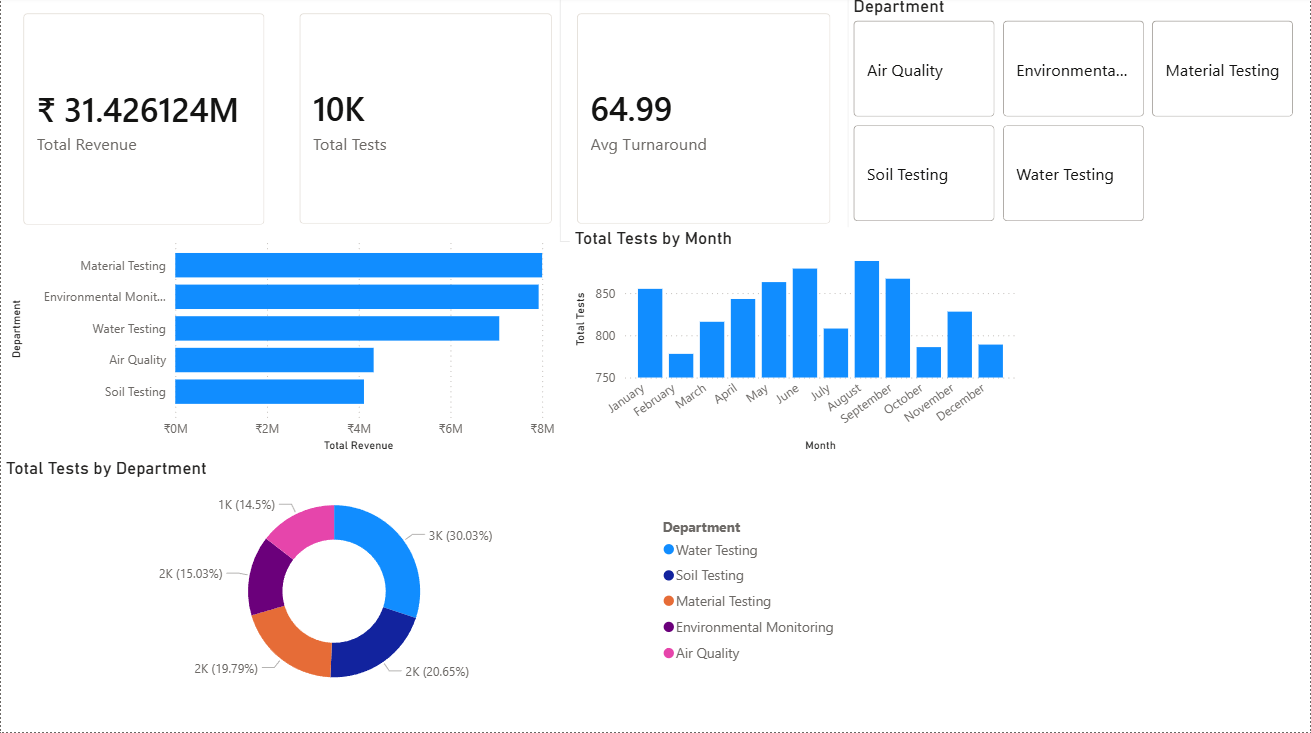

This screenshot's page, from the dashboard's own definition file:
{"tool":"powerbi","page":{"name":"Executive Overview","canvas":[1280,720],"ordinal":0},"visuals":[{"type":"cardVisual","fields":{"Data":["laboratory_operations.Total Revenue"]},"box":[4.7,0,270,241.3],"z":0},{"type":"cardVisual","fields":{"Data":["laboratory_operations.Total Tests"]},"box":[275.1,0,281.3,240.9],"z":1000},{"type":"cardVisual","fields":{"Data":["laboratory_operations.Avg Turnaround"]},"box":[546.6,0,282.5,240.9],"z":2000},{"type":"clusteredBarChart","fields":{"Category":["laboratory_operations.Department"],"Y":["laboratory_operations.Total Revenue"]},"box":[4.9,226.2,541.7,225],"z":3000},{"type":"donutChart","fields":{"Category":["laboratory_operations.Department"],"Y":["laboratory_operations.Total Tests"]},"box":[0,451.2,829.1,243.3],"z":4000},{"type":"advancedSlicerVisual","fields":{"Values":["laboratory_operations.Department"]},"box":[829.1,0,441.4,226.2],"z":5000},{"type":"clusteredColumnChart","fields":{"Category":["laboratory_operations.Test_Date.Variation.Date Hierarchy.Month"],"Y":["laboratory_operations.Total Tests"]},"box":[556.4,226.2,441.4,225],"z":5001}]}

Visuals, with their boxes in screenshot pixels (x1, y1, x2, y2), scaled from the page's 1280x720 canvas onto the 1311x733 screenshot:
cardVisual - laboratory_operations.Total Revenue: {"left": 5, "top": 0, "right": 281, "bottom": 246}
cardVisual - laboratory_operations.Total Tests: {"left": 282, "top": 0, "right": 570, "bottom": 245}
cardVisual - laboratory_operations.Avg Turnaround: {"left": 560, "top": 0, "right": 849, "bottom": 245}
clusteredBarChart - laboratory_operations.Department x laboratory_operations.Total Revenue: {"left": 5, "top": 230, "right": 560, "bottom": 459}
donutChart - laboratory_operations.Department x laboratory_operations.Total Tests: {"left": 0, "top": 459, "right": 849, "bottom": 707}
advancedSlicerVisual - laboratory_operations.Department: {"left": 849, "top": 0, "right": 1301, "bottom": 230}
clusteredColumnChart - laboratory_operations.Test_Date.Variation.Date Hierarchy.Month x laboratory_operations.Total Tests: {"left": 570, "top": 230, "right": 1022, "bottom": 459}
